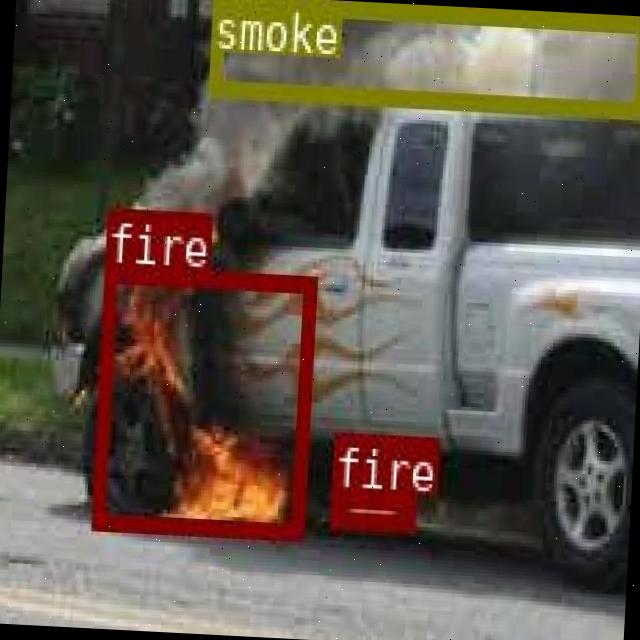fire: (90, 262, 315, 536), (329, 489, 413, 529)
smoke: (206, 0, 640, 114)
